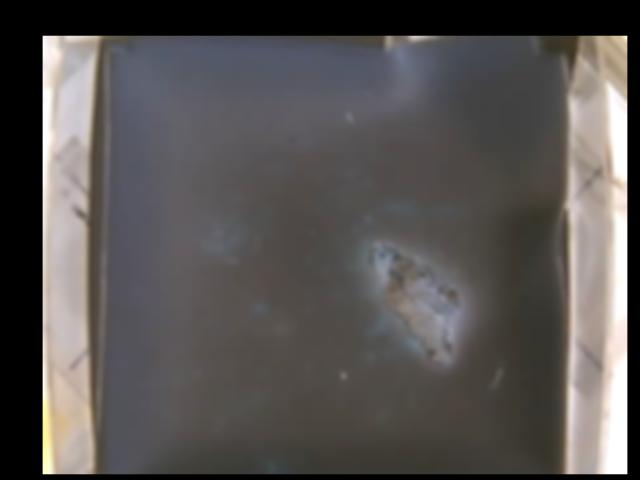Brisk: (371, 238, 460, 363)
